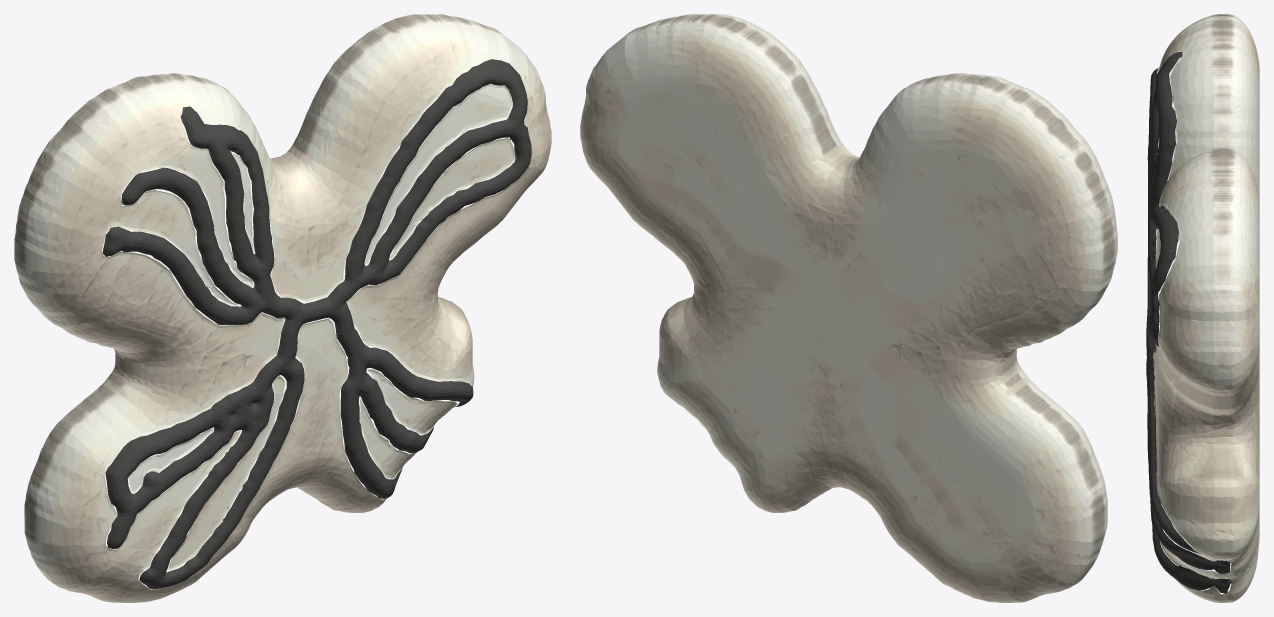
File: IAMWE_XMAS_X.glb
3 renders of one model, left to right at view 1: azimuth 30°, elevation 25°; view 2: azimuth 150°, elevation 25°; view 3: azimuth 270°, elevation 25°, orthographic.
Visible parts, largest first — view 1: x_paper, x_thread; view 2: x_paper; view 3: x_paper, x_thread.
Part boxes in pixels (x1=…): x_paper: x1=14, y1=14, x2=551, y2=602; x_thread: x1=103, y1=59, x2=531, y2=589; x_paper: x1=580, y1=14, x2=1117, y2=602; x_paper: x1=1153, y1=14, x2=1259, y2=602; x_thread: x1=1146, y1=51, x2=1231, y2=595.
Size of the model in its own units: 1 by 0.9394 by 0.1901.
Materials: 2 (1 with a texture image).
